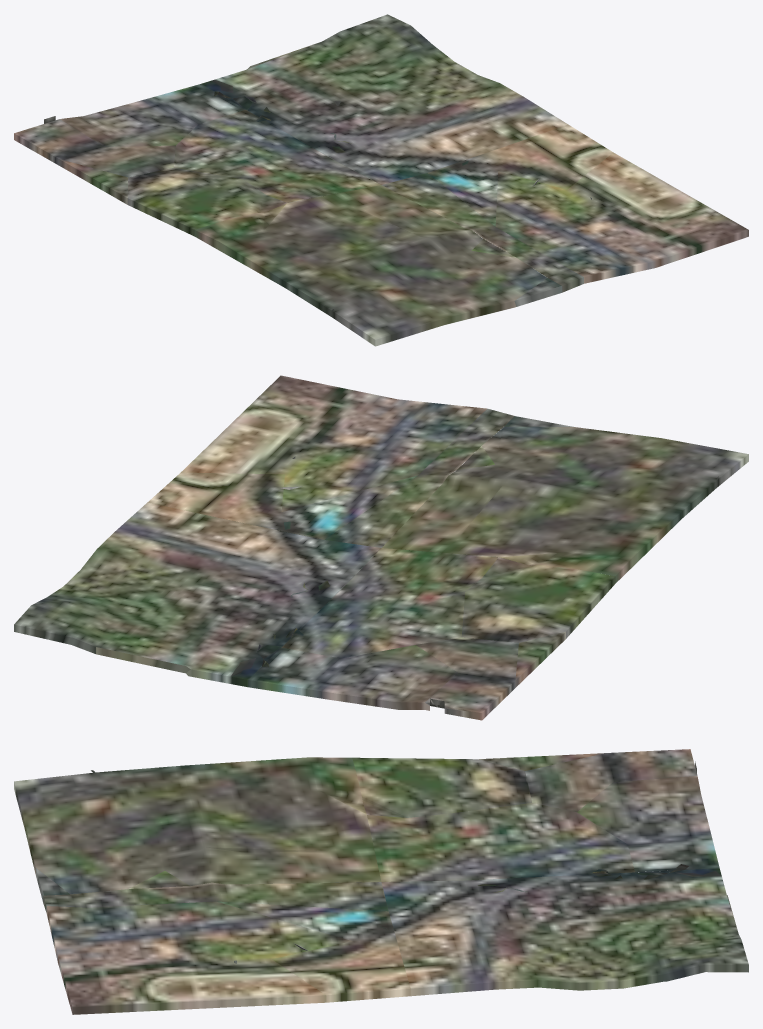
3 views of the same model, one above another, from view 1: azimuth 30°, elevation 25°; view 2: azimuth 150°, elevation 25°; view 3: azimuth 270°, elevation 25° (orthographic). The views are drawn at different scales.
Visible parts, largest first — view 1: Mesh_0; view 2: Mesh_0; view 3: Mesh_0.
Part boxes in pixels (bbox=[...]): Mesh_0: bbox=[14, 14, 748, 346]; Mesh_0: bbox=[14, 375, 748, 720]; Mesh_0: bbox=[14, 749, 748, 1014].
Bounding box in the file's own units: 2128 × 109 × 2635.
1 material, 1 textured.
